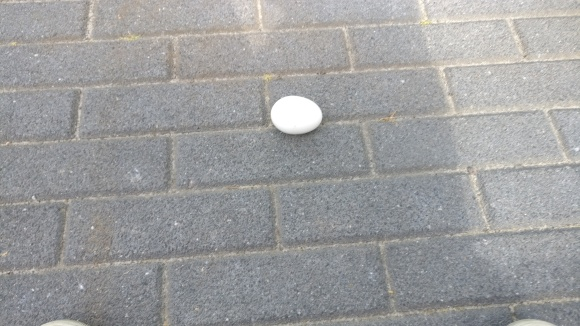egg: (270, 96, 323, 135)
